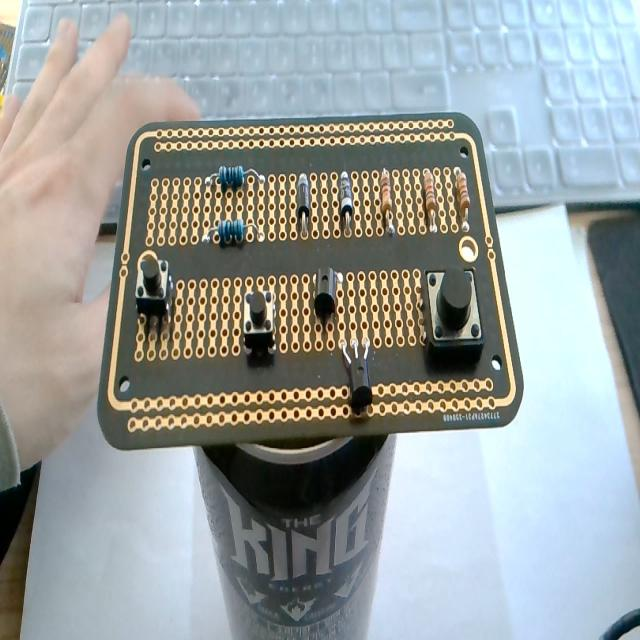diode: (340, 170, 354, 237), (297, 173, 310, 240)
resistor: (201, 218, 263, 245), (202, 164, 263, 191), (452, 165, 471, 232), (422, 168, 438, 232), (380, 170, 394, 236)
switch: (424, 266, 483, 351), (134, 249, 176, 341), (243, 287, 277, 356)
transistor: (340, 342, 380, 412), (313, 266, 339, 318)
